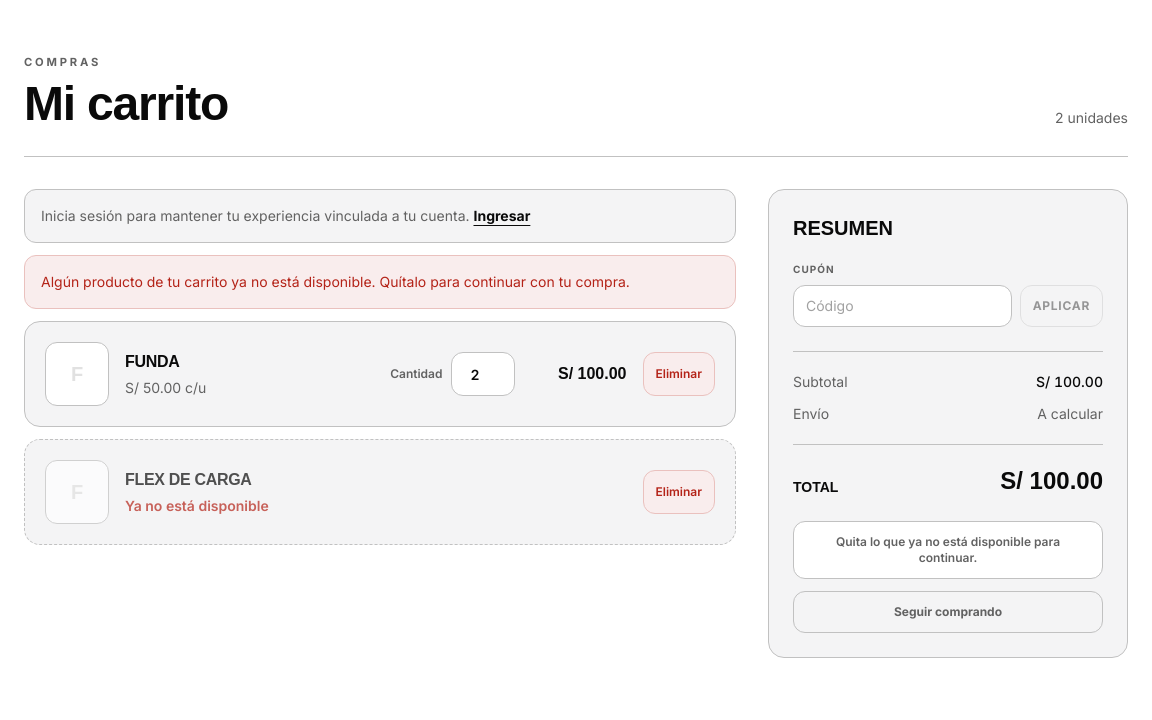
Test: el carrito que la contiene › al quitarla se pide al servidor y el pago vuelve a ofrecerse
expect the text "Flex de carga" is shown: met, box [125,468,269,492]
Click the button with aria-label "Eliminar Flex de carga" at (679, 492), box [642,470,715,514]
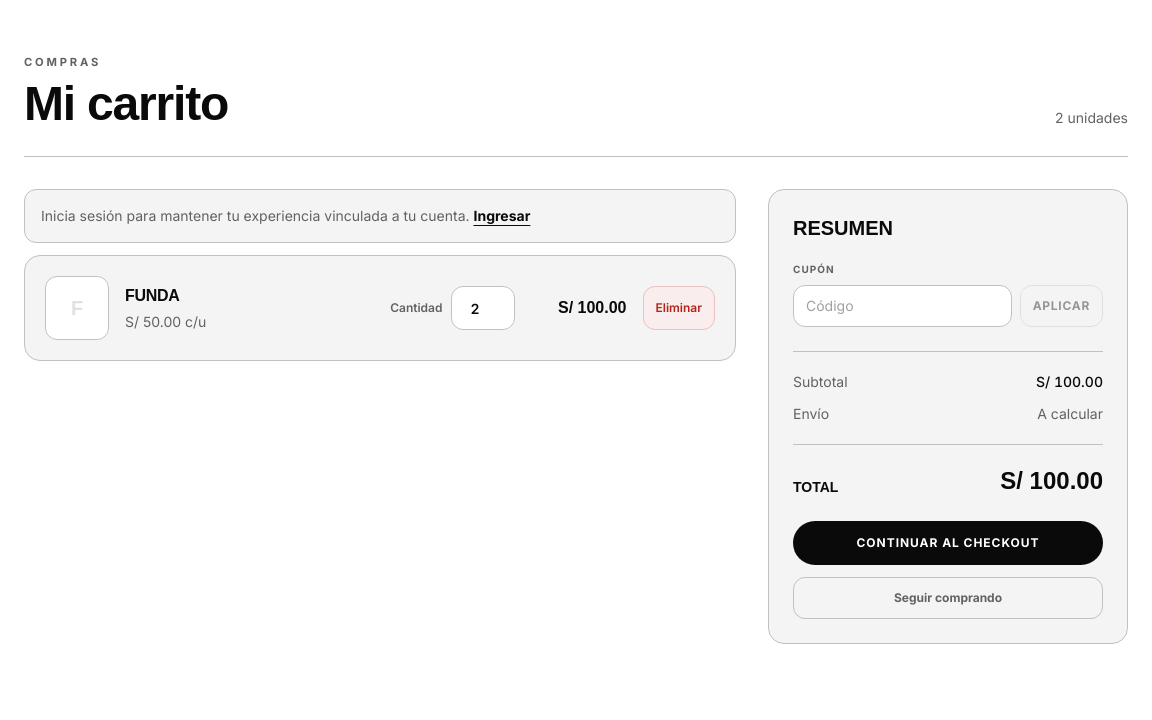
expect the text "Flex de carga" is gone: met
expect the link "Continuar al checkout" is shown: met, box [793,521,1103,565]
